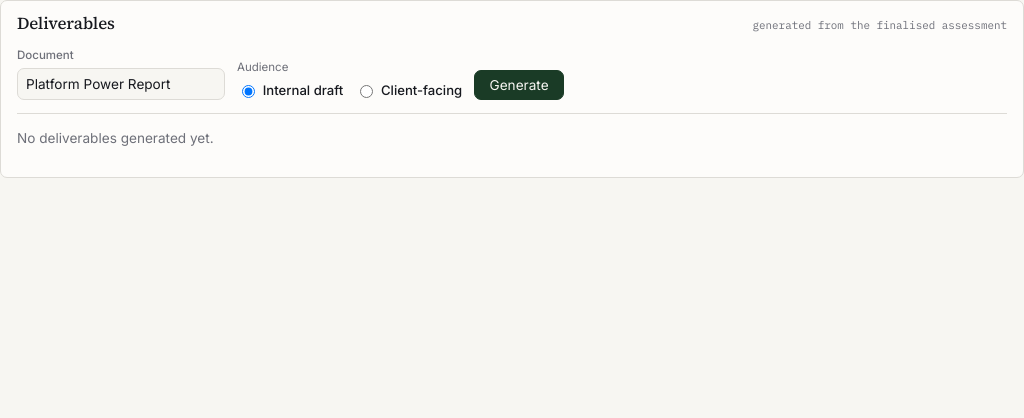
Test: DeliverablesPanel (GRS-0019) › surfaces the gate refusal message verbatim, not a status code
This screenshot has width=1024, height=418.
Check: the text "No deliverables generated yet." is shown, box left=17, top=130, right=214, bottom=146
Note: Choose client-facing, which the draft coefficient set refuses — go through the review step.
Click the radio button labelled "Client-facing". click: (367, 92)
box: left=360, top=85, right=373, bottom=98
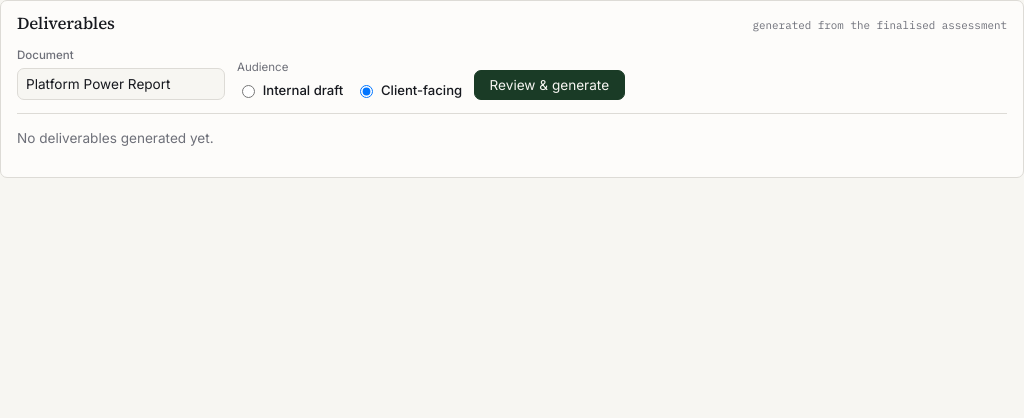
Click the button "Review & generate". click: (549, 85)
box: left=474, top=70, right=624, bottom=100
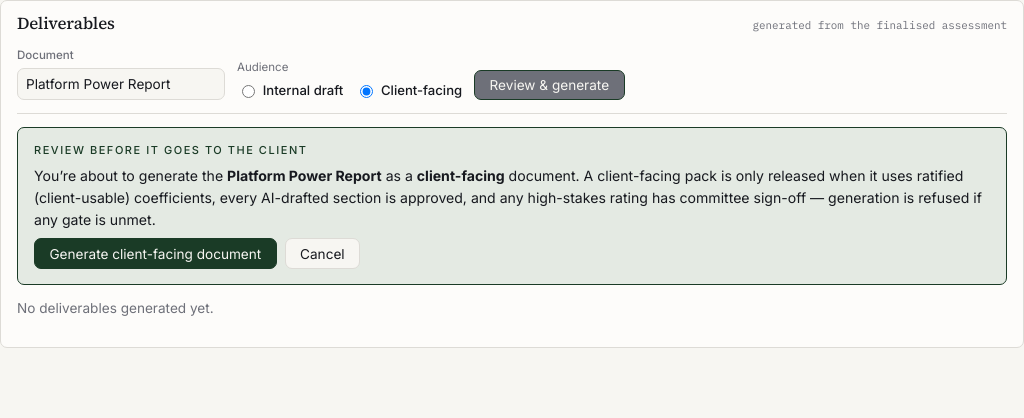
Click the button "Generate client-facing document". click: (155, 254)
box: left=34, top=238, right=277, bottom=269
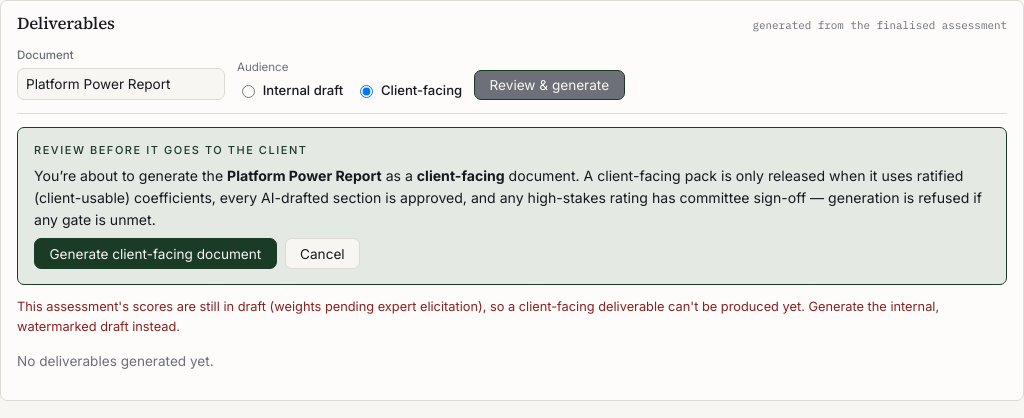
Check: the message shows "still in draft", box left=17, top=299, right=939, bottom=334
Check: the message shows "watermarked draft instead", box left=17, top=299, right=939, bottom=334
